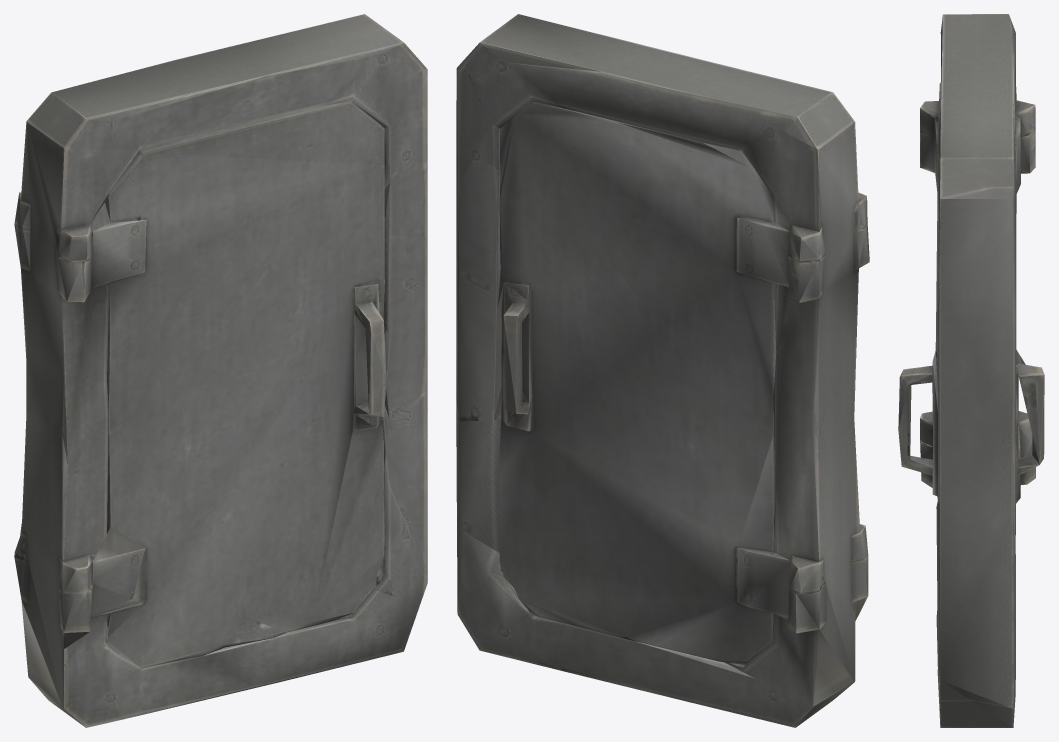
File: imperial_defence_battery__entrance_door_leaf_lod1.glb
The picture shows the model from 3 angles, left to right: view 1: azimuth 30°, elevation 25°; view 2: azimuth 150°, elevation 25°; view 3: azimuth 270°, elevation 25°; orthographic projection. The views are drawn at different scales.
Parts seen in each view (by area): view 1: mesh_node; view 2: mesh_node; view 3: mesh_node.
Boxes of the visible parts, left/top/right/bottom form: mesh_node: left=14, top=14, right=427, bottom=727; mesh_node: left=456, top=14, right=869, bottom=727; mesh_node: left=898, top=14, right=1044, bottom=727.
Bounding box in the file's own units: 2.03 × 3.2 × 0.7439.
Materials: 1 (1 with a texture image).
